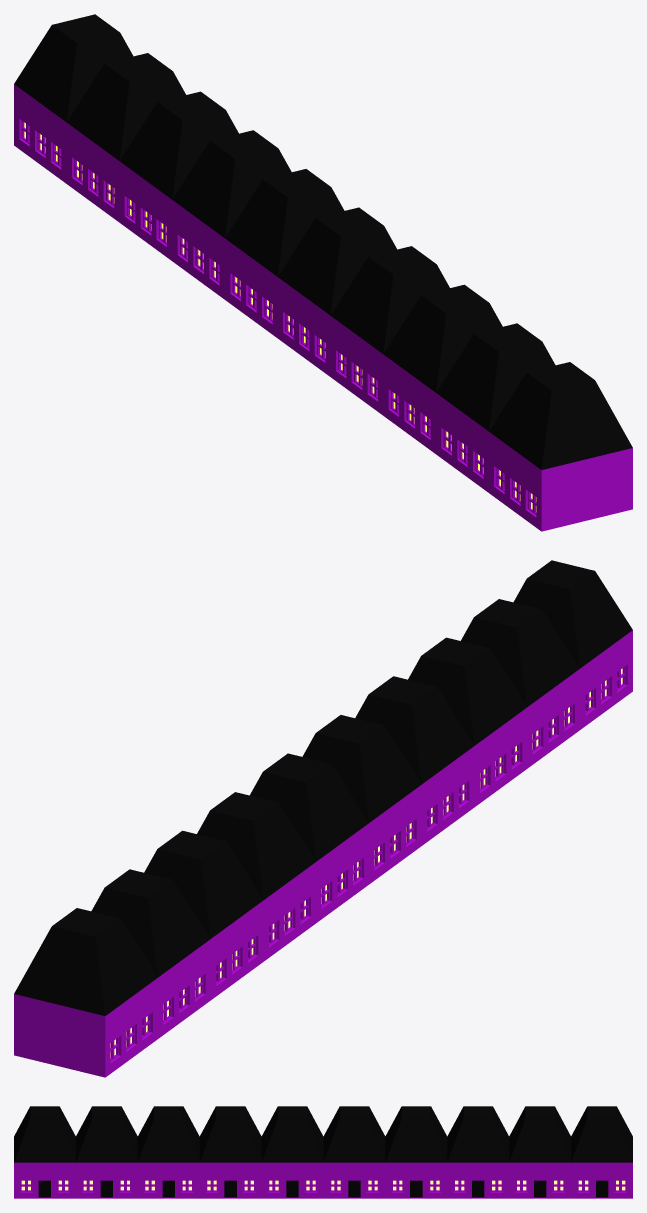
File: bungalows_2.fbx
The picture shows the model from 3 angles, top to bottom: view 1: azimuth 30°, elevation 25°; view 2: azimuth 150°, elevation 25°; view 3: azimuth 270°, elevation 25°; orthographic projection. The views are drawn at different scales.
Parts seen in each view (by area): view 1: Cube; view 2: Cube; view 3: Cube.
Part boxes in pixels (x1,y1,x2,y2): Cube: (14, 14, 632, 531); Cube: (14, 560, 632, 1077); Cube: (14, 1106, 632, 1198).
Size of the model in its own units: 28 by 36.56 by 280.
